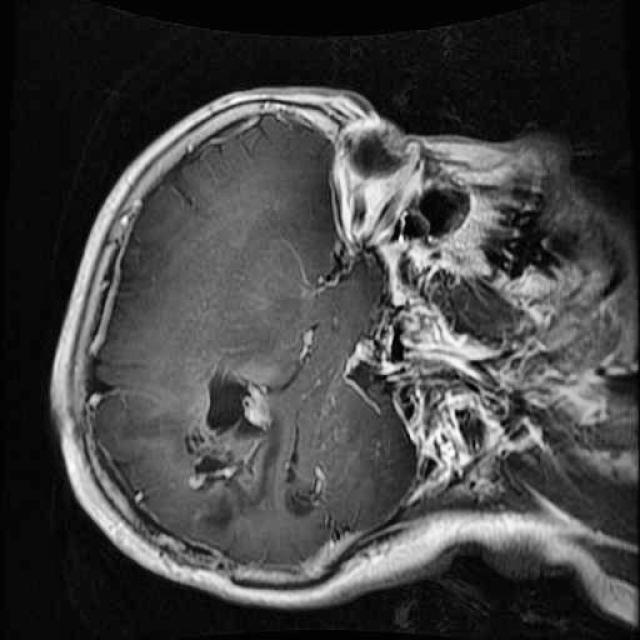Non-Tumor: (175, 359, 340, 531)
